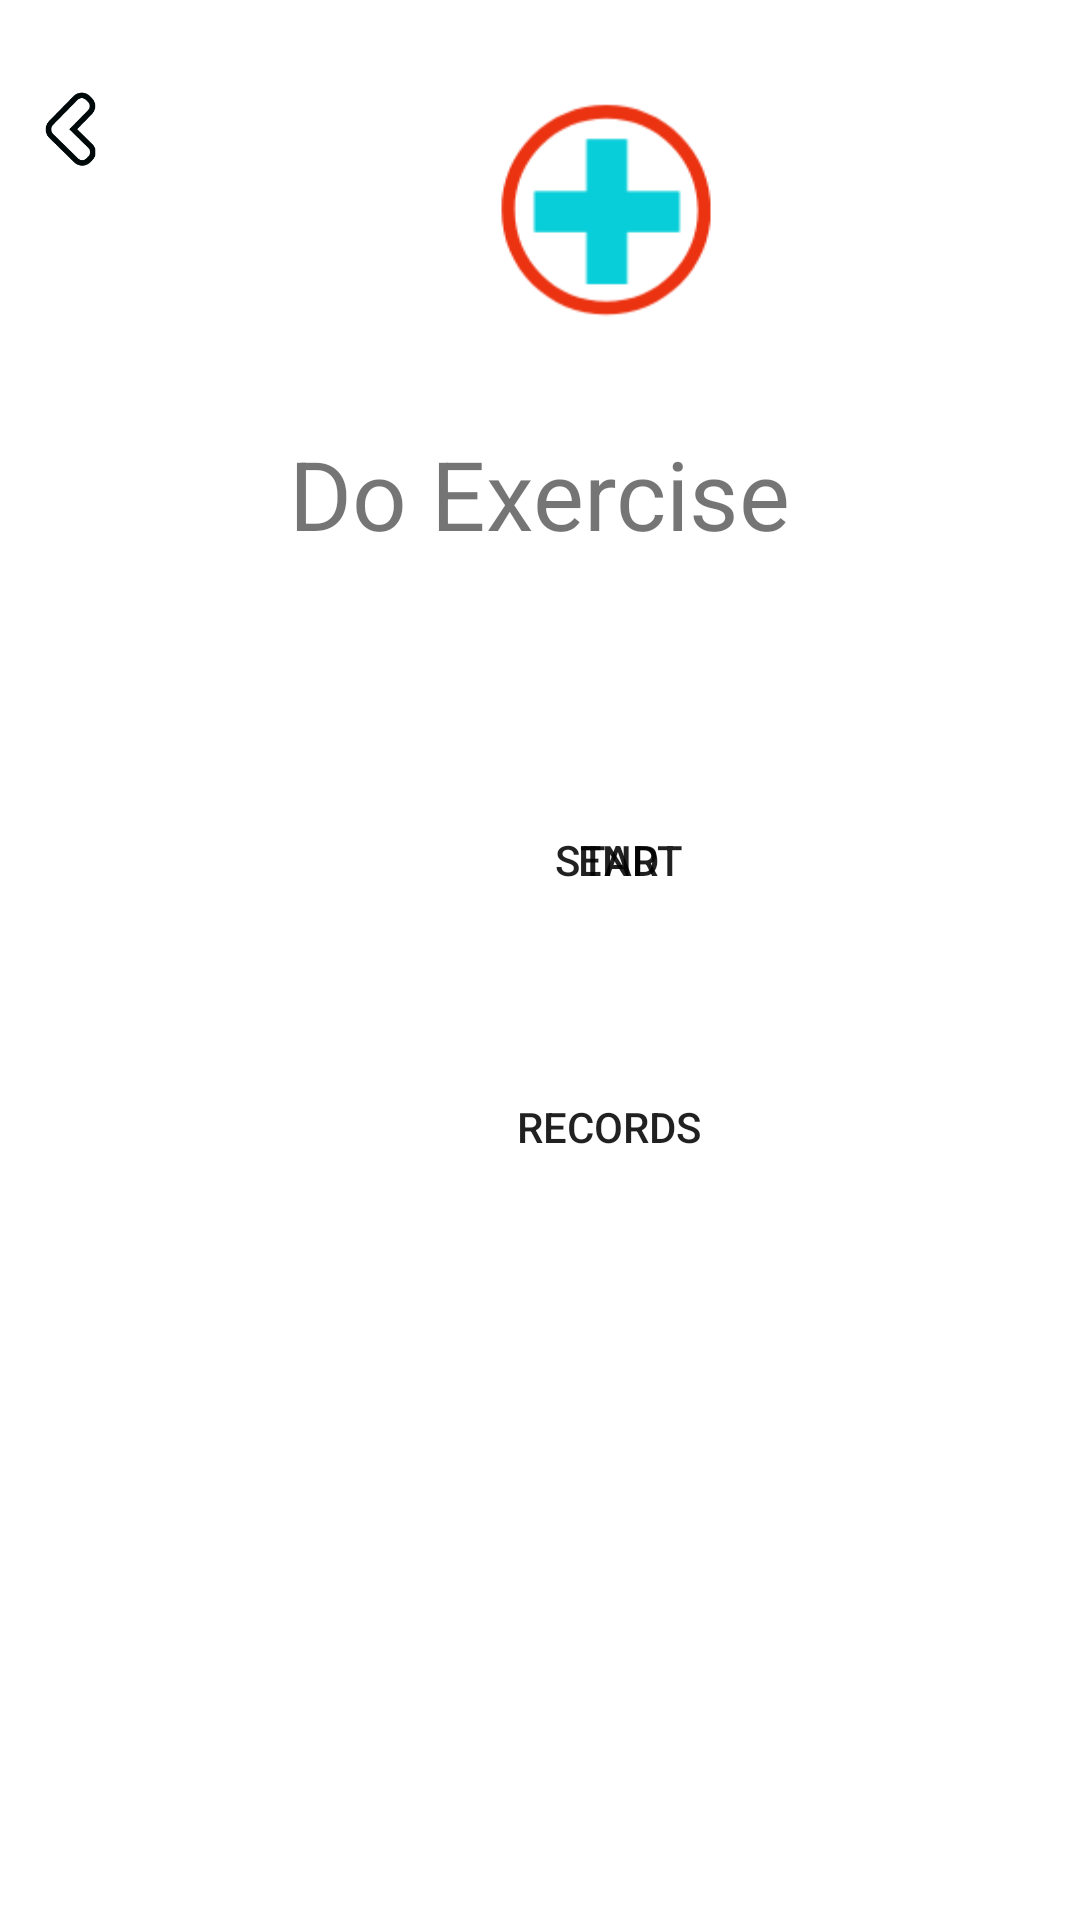

Point at icon controls on the screen. Image size 1080 x 1920, points as [x,y].
back: [70,129]
